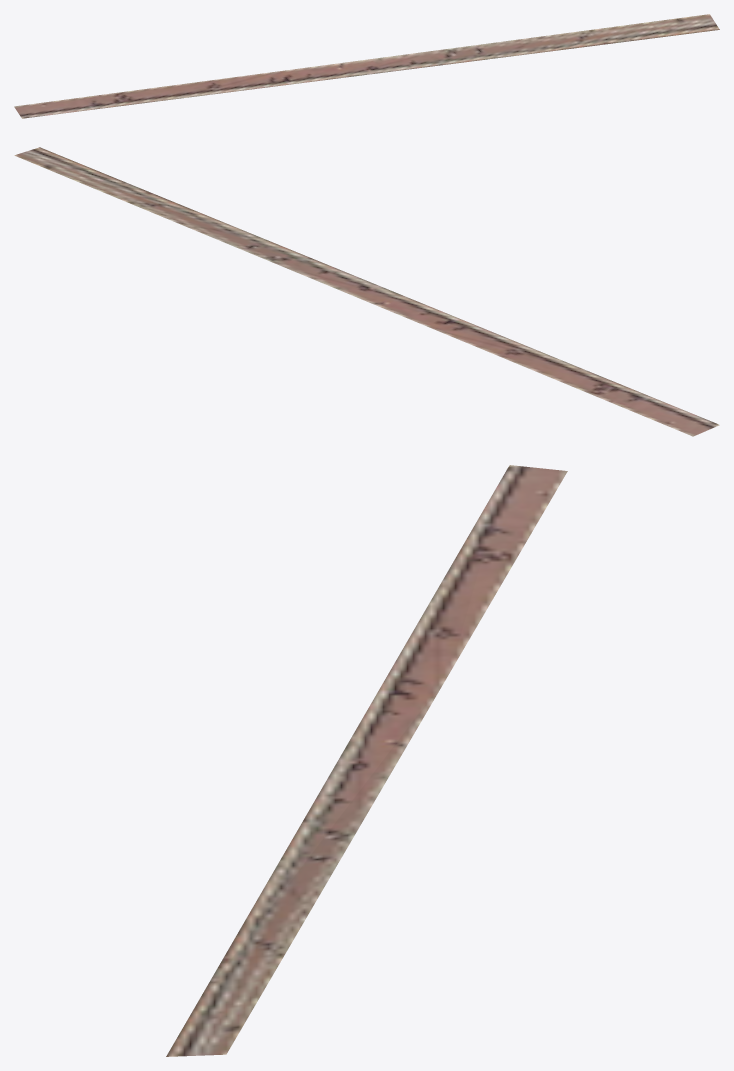
3 renders of one model, top to bottom at view 1: azimuth 30°, elevation 25°; view 2: azimuth 150°, elevation 25°; view 3: azimuth 270°, elevation 25°, orthographic. The views are drawn at different scales.
Visible parts, largest first — view 1: Z_UP; view 2: Z_UP; view 3: Z_UP.
Boxes of the visible parts, x1,y1,x2,y2 form: Z_UP: [14, 14, 719, 118]; Z_UP: [14, 147, 719, 436]; Z_UP: [166, 465, 567, 1056].
Size of the model in its own units: 115 by 1.1 by 32.57.
Materials: 1 (1 with a texture image).
